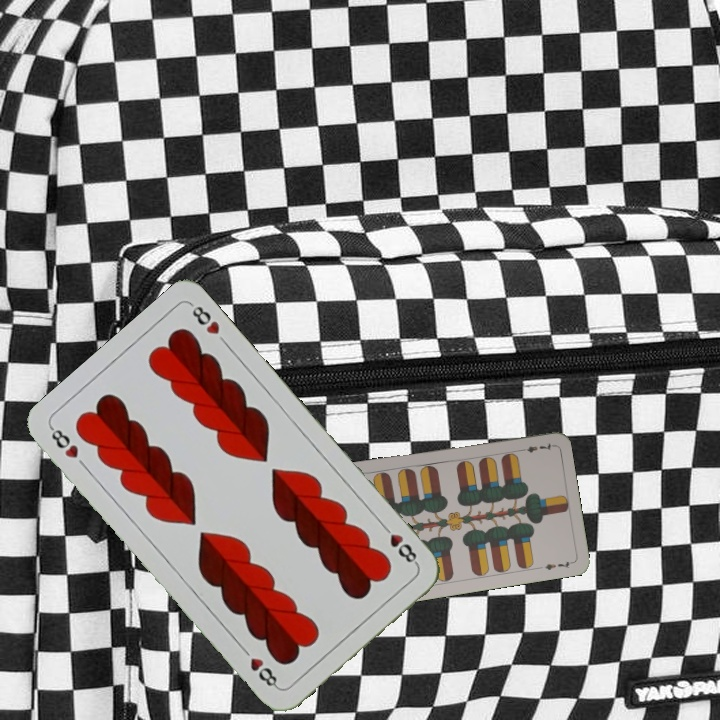E7: (515, 440, 555, 455)
H8: (377, 519, 421, 568), (46, 423, 81, 461)
